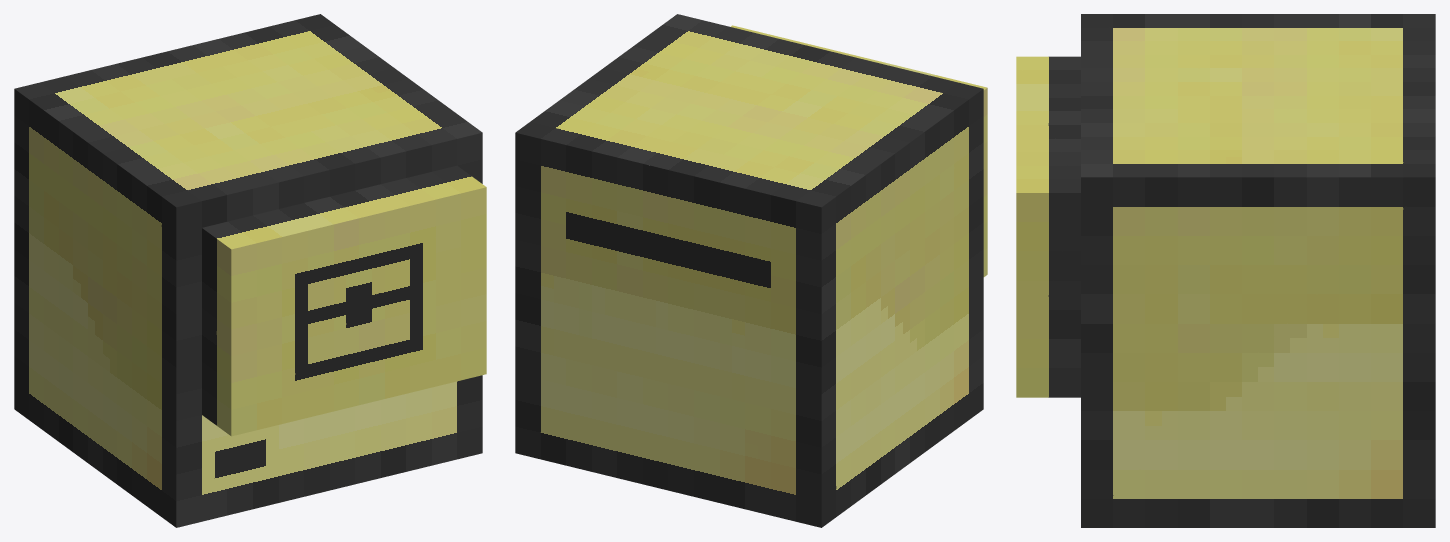
The model's file is turtle.glb.
3 views of the same model, side by side, from view 1: azimuth 30°, elevation 25°; view 2: azimuth 150°, elevation 25°; view 3: azimuth 270°, elevation 25° (orthographic). The views are drawn at different scales.
Visible parts, largest first — view 1: cube, cube.001; view 2: cube, cube.001; view 3: cube, cube.001.
Boxes of the visible parts, left/top/right/bottom form: cube: left=14, top=14, right=482, bottom=527; cube.001: left=202, top=165, right=486, bottom=436; cube: left=515, top=14, right=983, bottom=527; cube.001: left=730, top=25, right=987, bottom=276; cube: left=1081, top=14, right=1435, bottom=527; cube.001: left=1016, top=56, right=1080, bottom=397.
Bounding box in the file's own units: 0.75 × 0.75 × 0.8125.
1 material, 1 textured.
